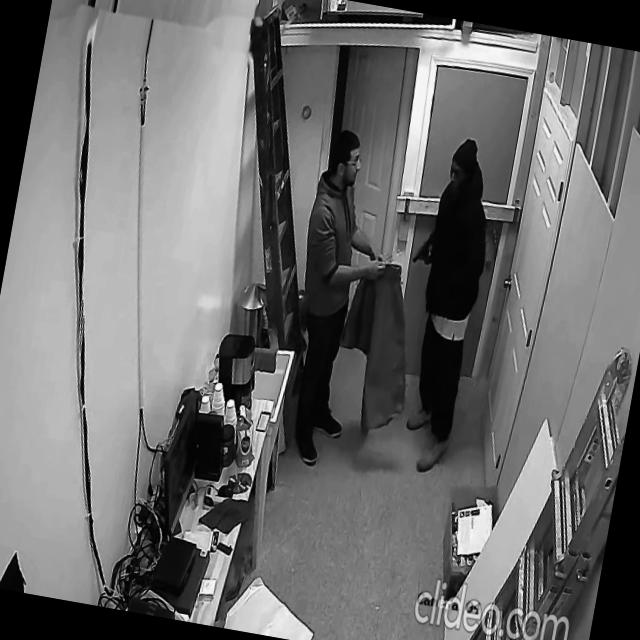gun: (412, 236, 433, 266)
person: (266, 124, 414, 475)
person with a gun: (376, 130, 506, 480)
